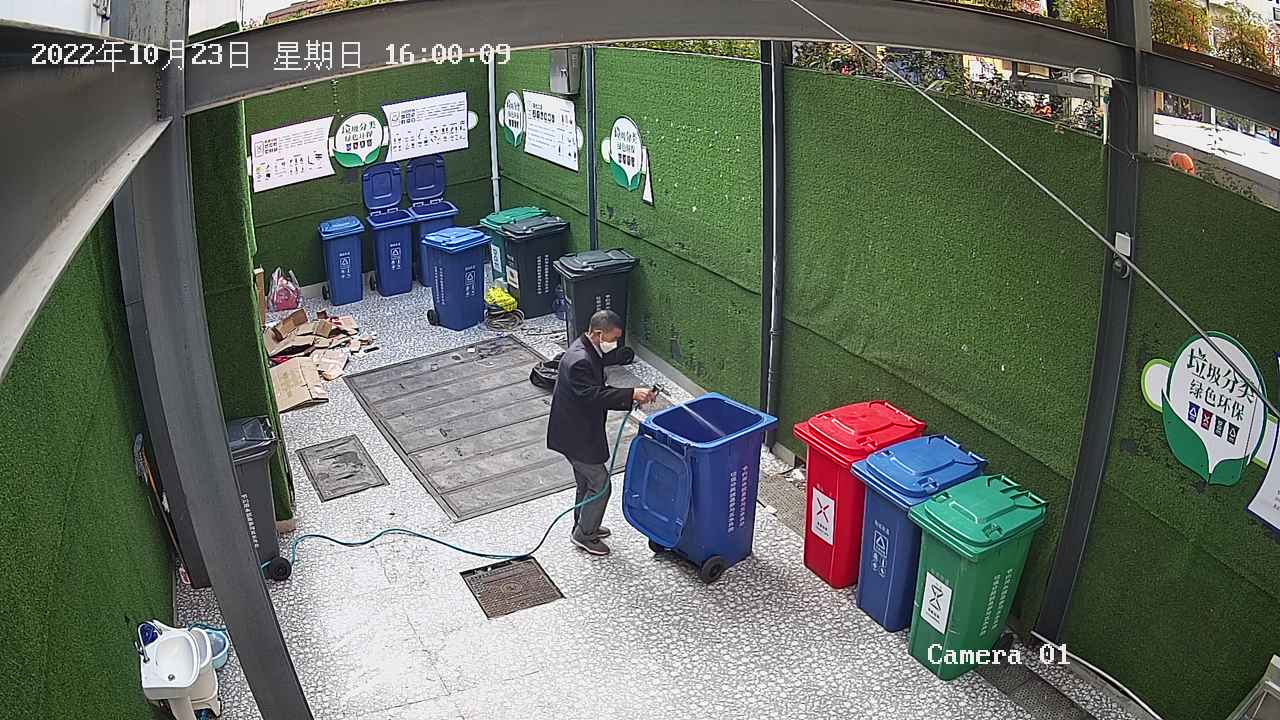person: (539, 303, 663, 563)
zhizhipin: (258, 304, 375, 410)
